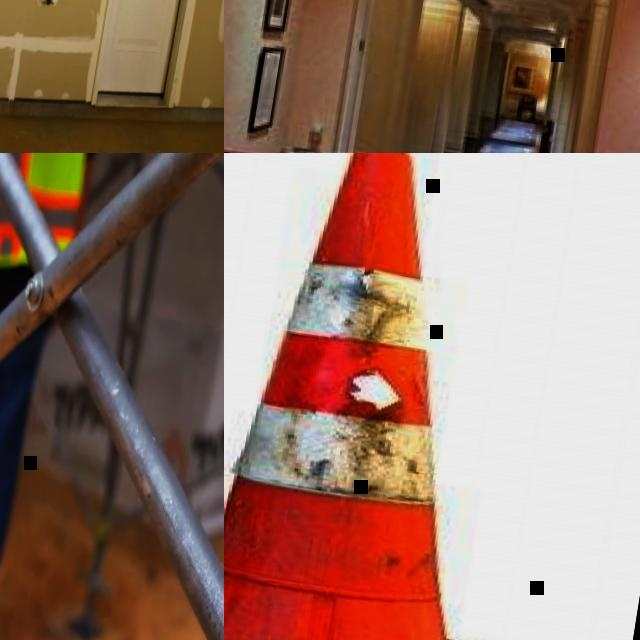Person: (0, 153, 109, 640)
Safety Cone: (224, 153, 640, 640)
Safety Vest: (0, 153, 102, 281)
